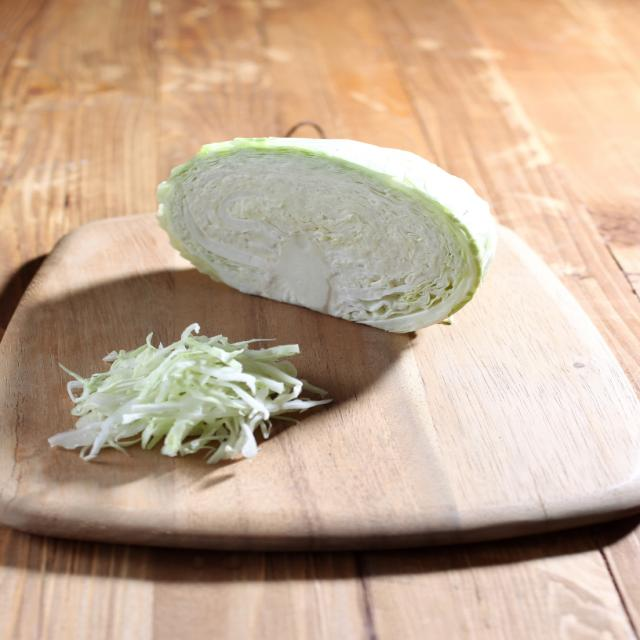haft-cabbage: (154, 130, 502, 339)
